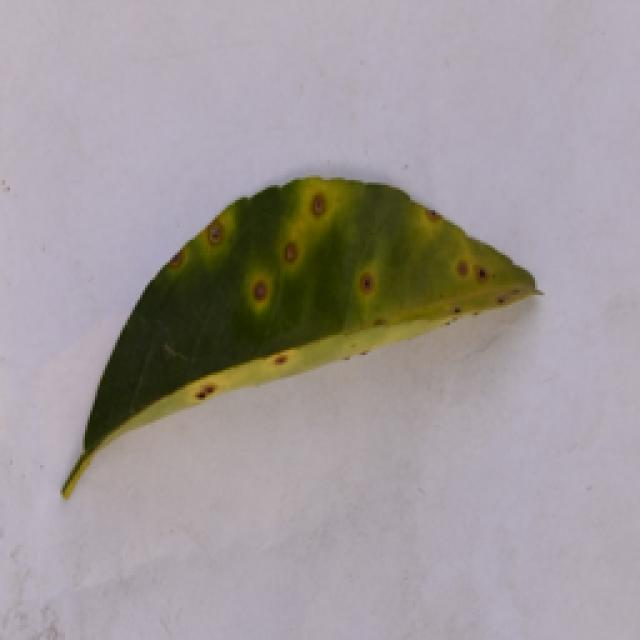canker: (90, 154, 550, 483)
